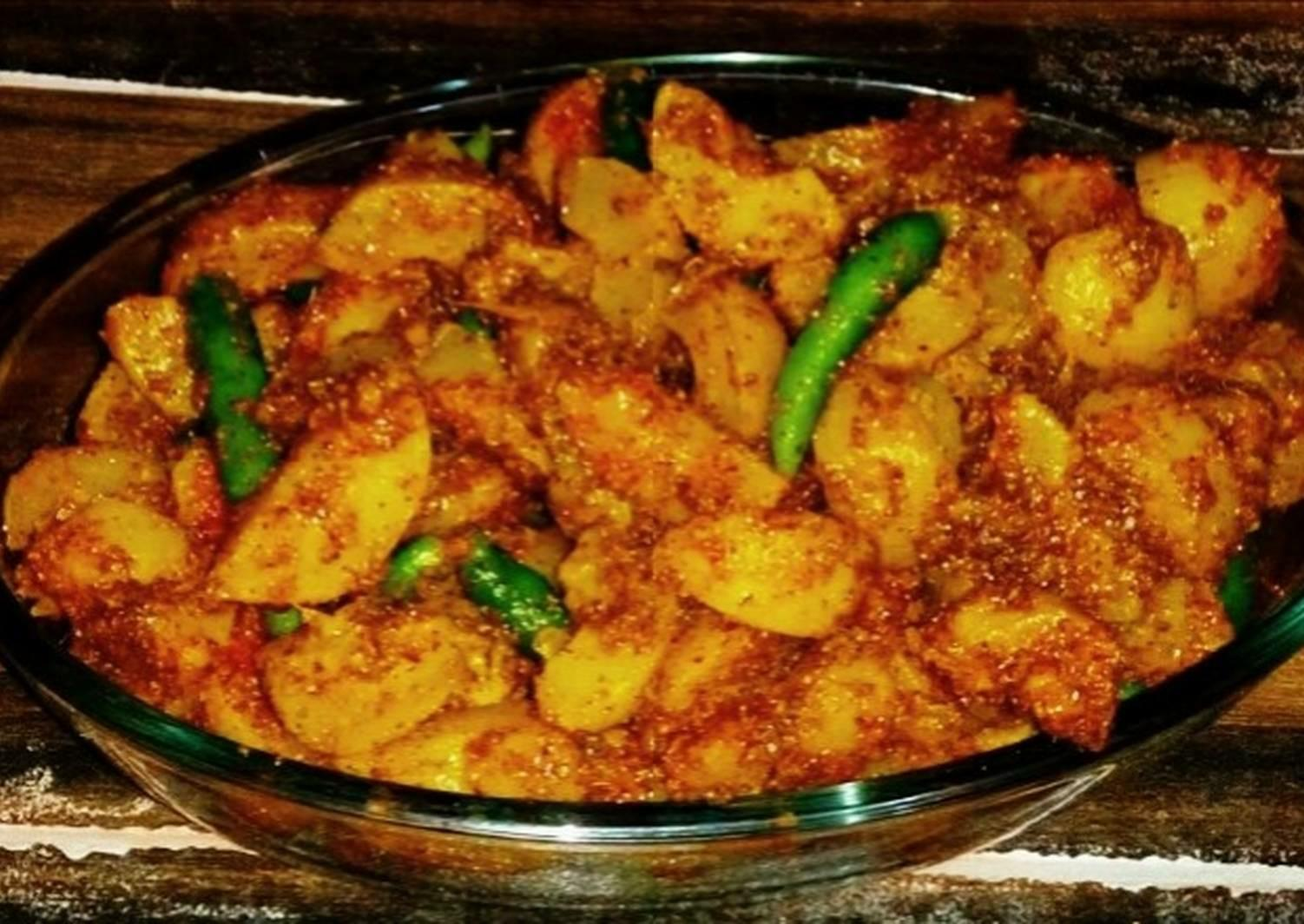AlooMasala: (0, 73, 1304, 800)
